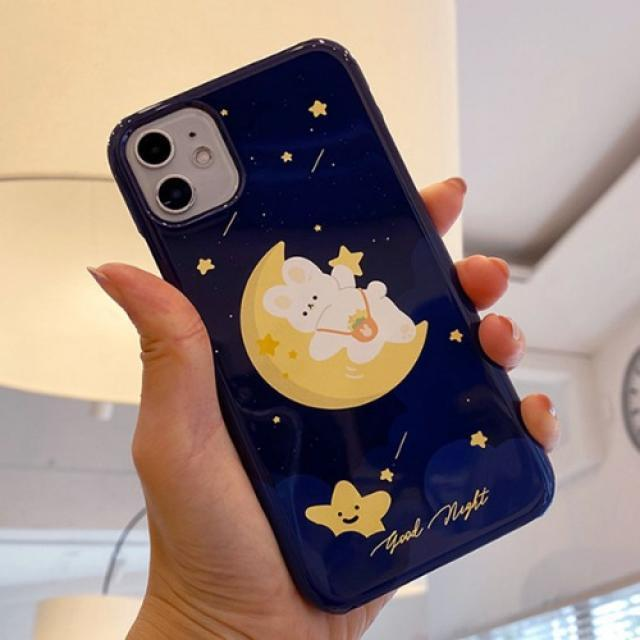phone: (105, 38, 560, 614)
